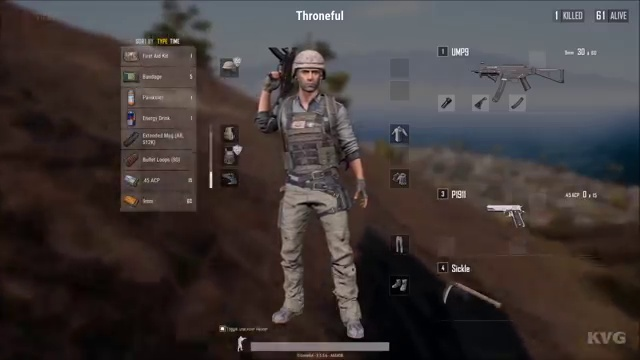Player: (252, 45, 375, 323)
